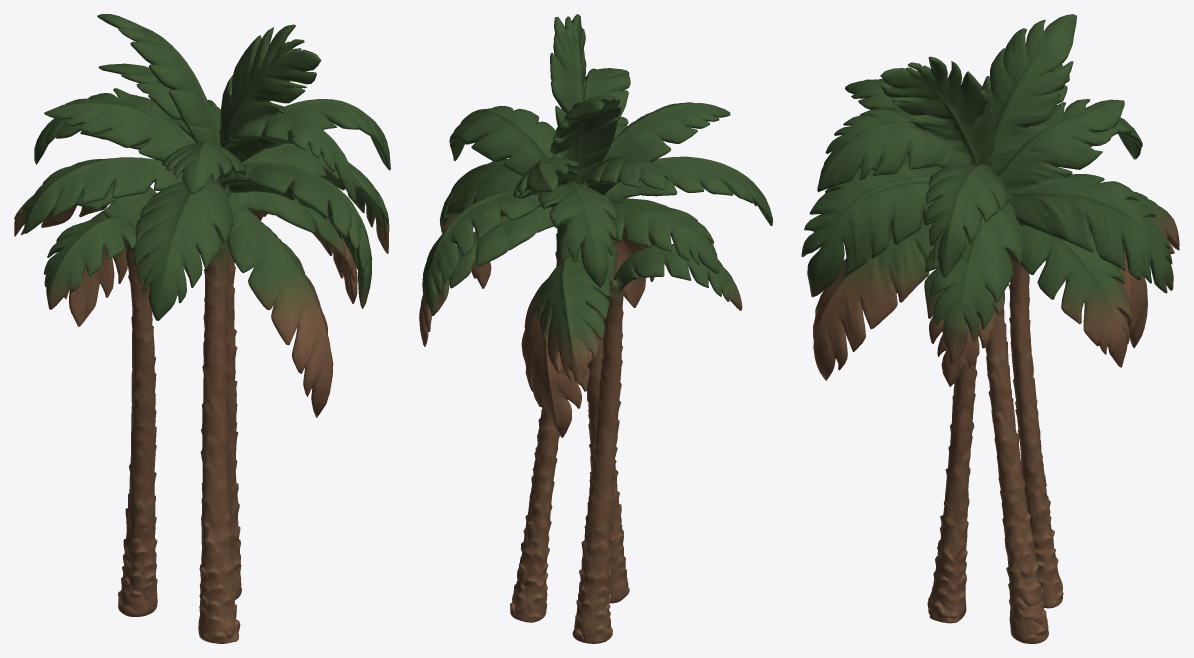
Rendered from palm-tripo.glb.
3 views of the same model, side by side, from view 1: azimuth 30°, elevation 25°; view 2: azimuth 150°, elevation 25°; view 3: azimuth 270°, elevation 25° (orthographic). The views are drawn at different scales.
Visible parts, largest first — view 1: TripoPalm; view 2: TripoPalm; view 3: TripoPalm.
Part boxes in pixels (left/top/right/bottom): TripoPalm: left=14, top=14, right=390, bottom=643; TripoPalm: left=419, top=14, right=772, bottom=643; TripoPalm: left=801, top=14, right=1179, bottom=643.
Bounding box in the file's own units: 3.43 × 6 × 3.49.
